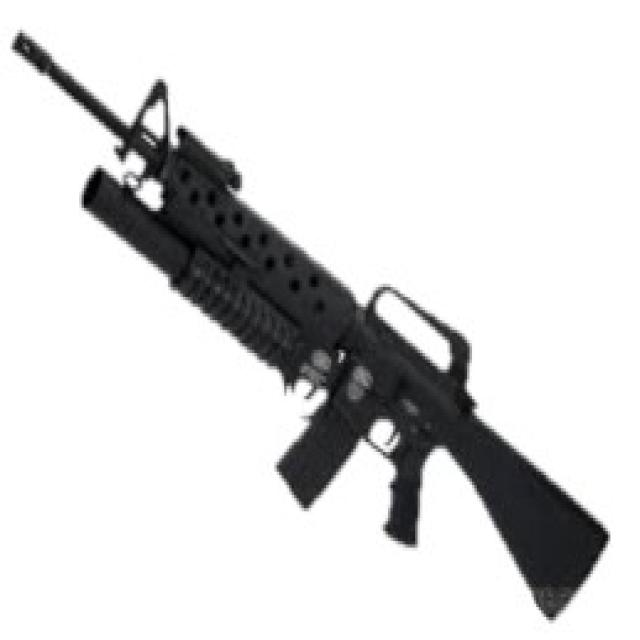rifle: (8, 12, 615, 632)
